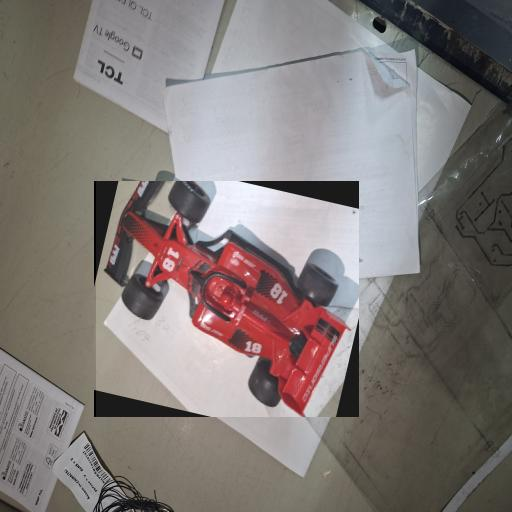carro: (96, 181, 359, 417)
